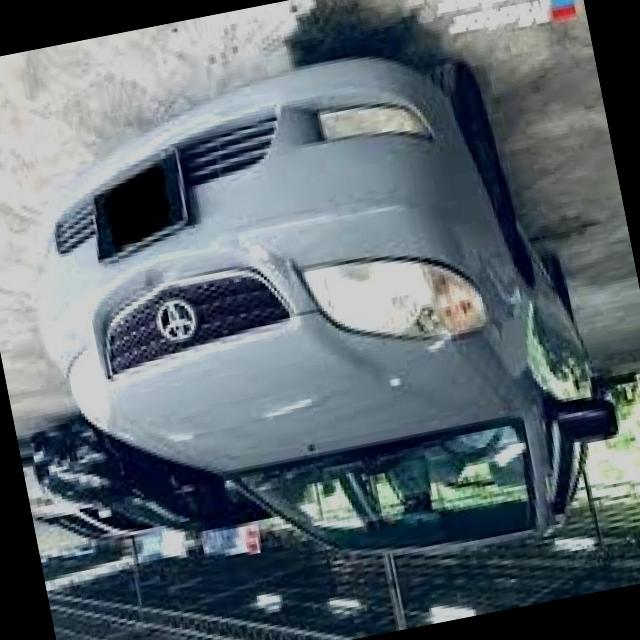ToyotaVios: (0, 18, 639, 625)
